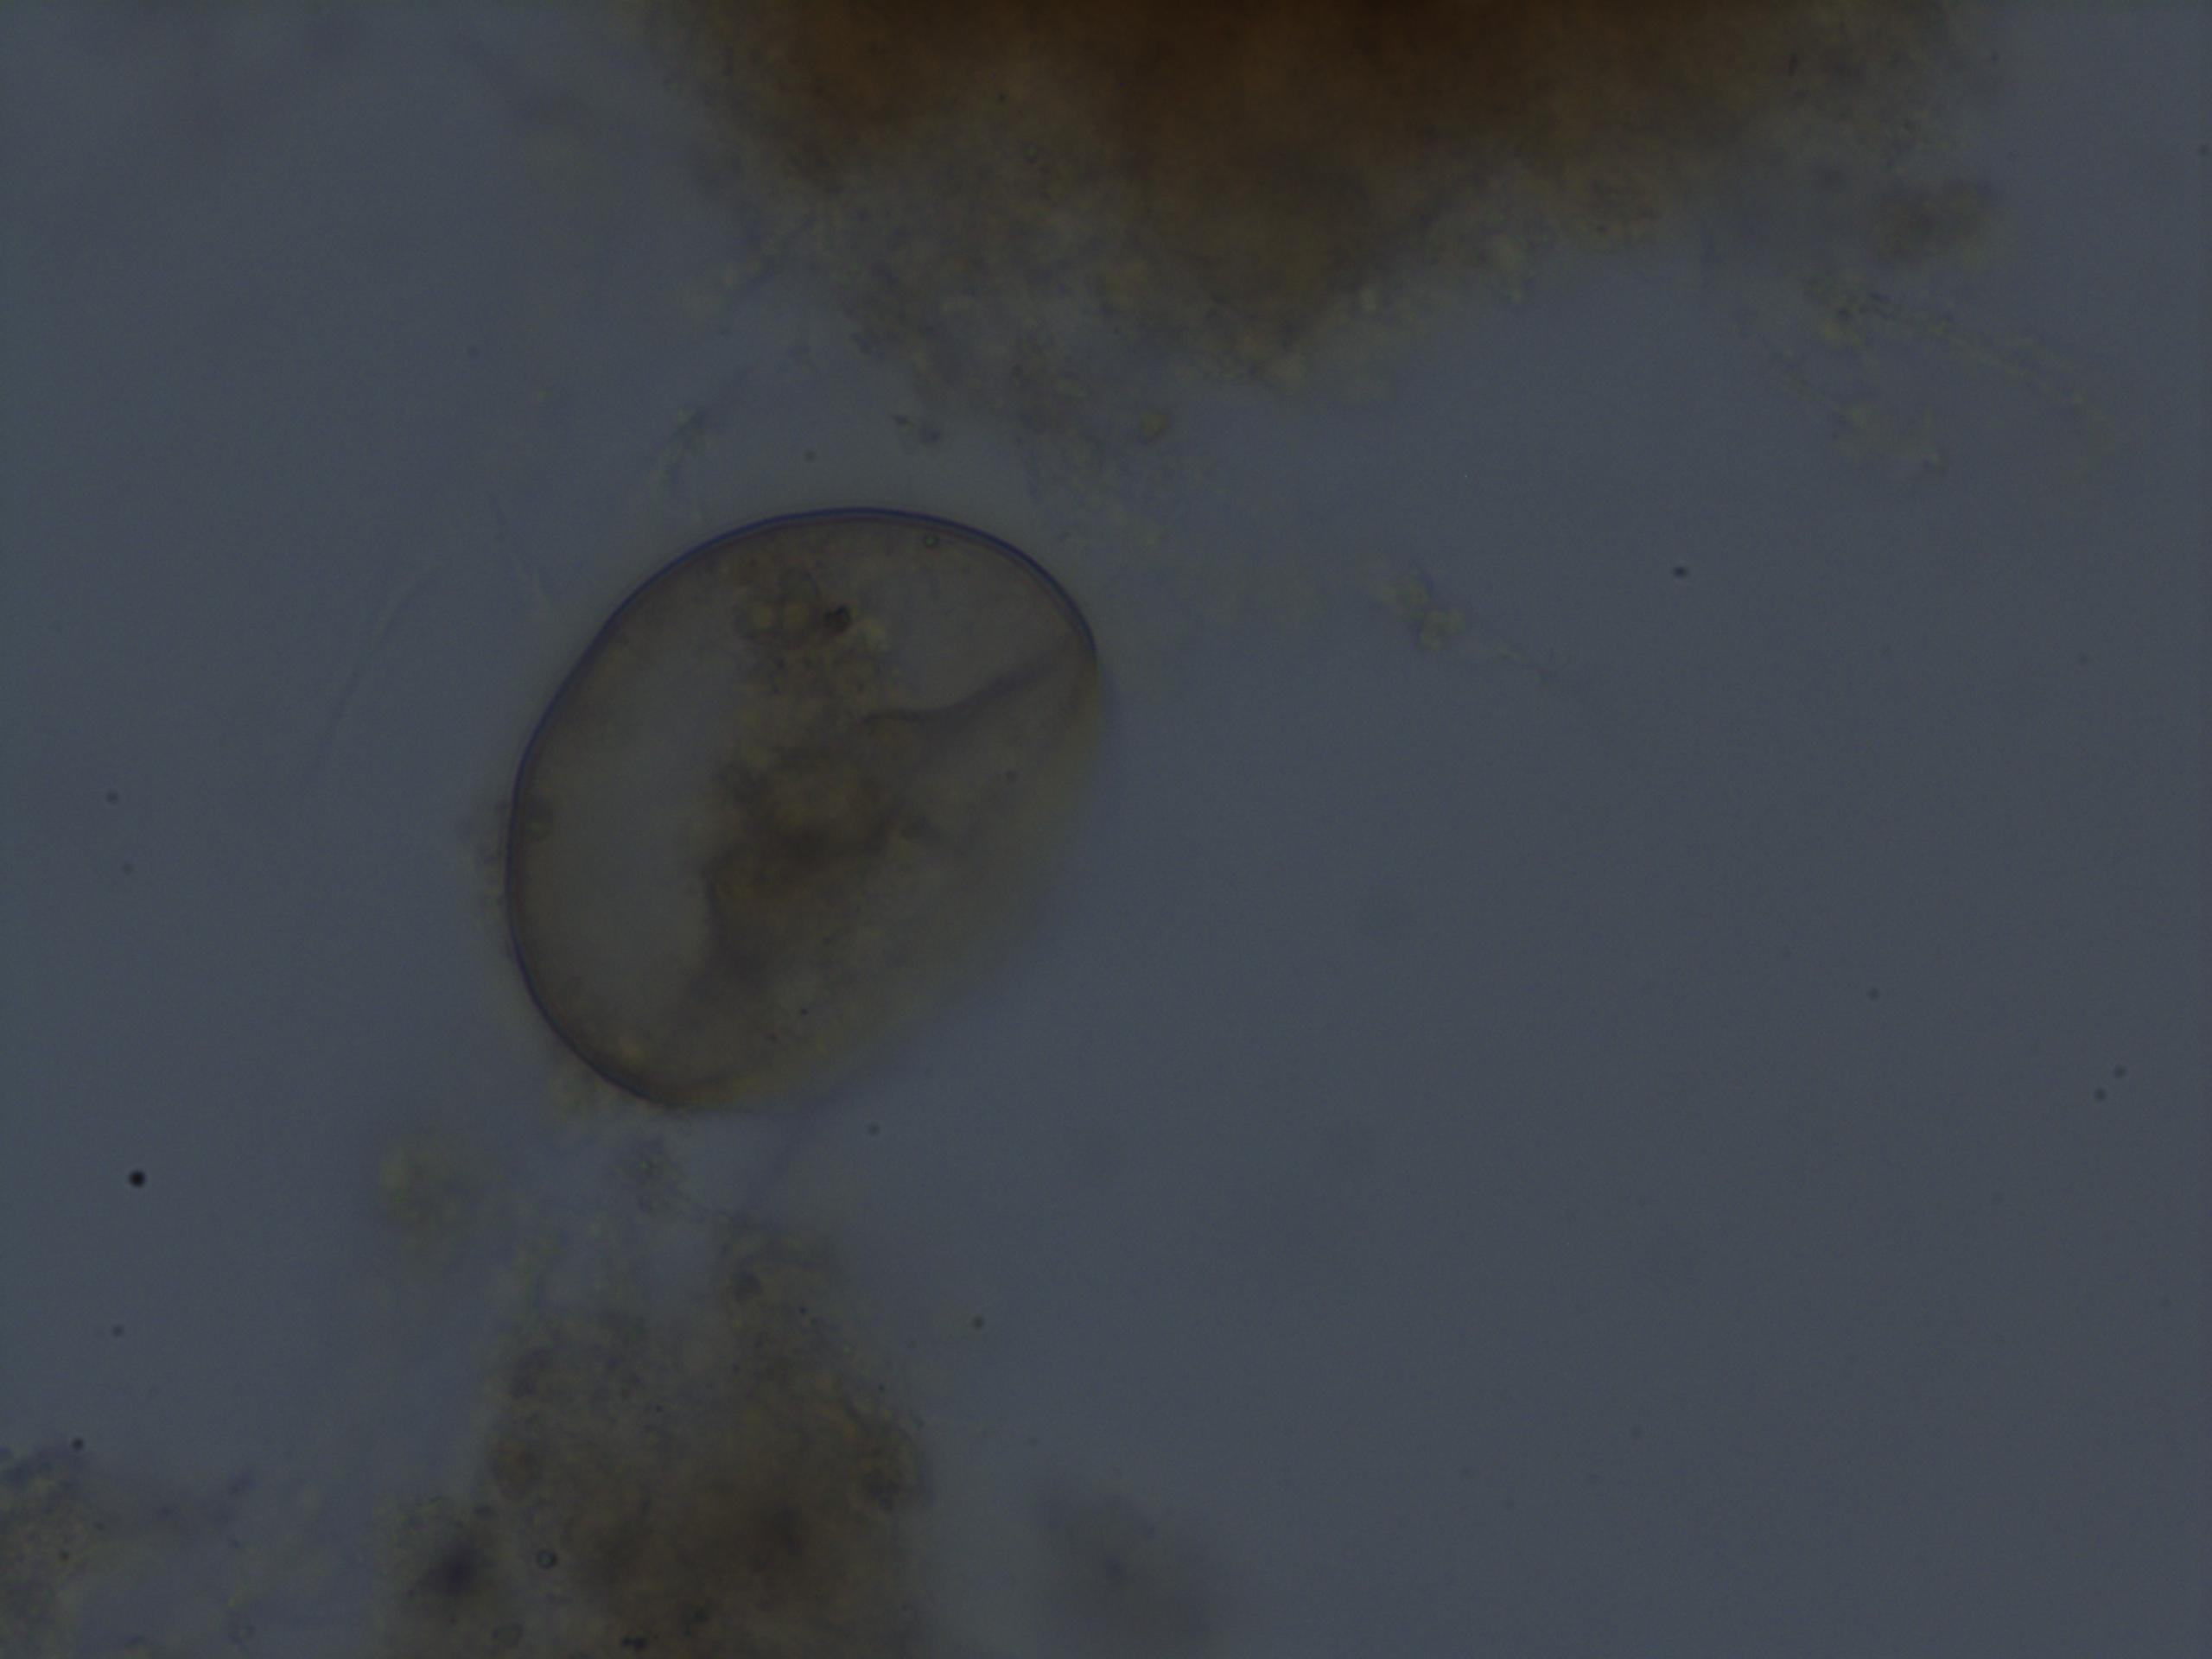protozoa: (482, 491, 1129, 1126)
